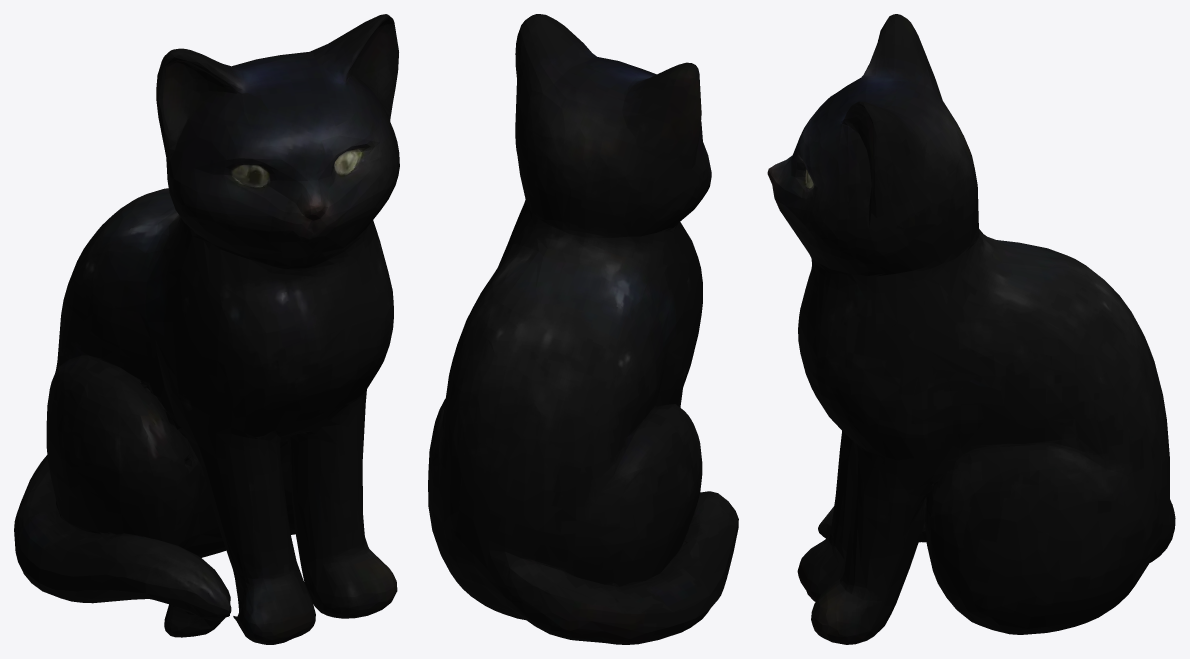
File: cat_black_sitting.glb
The picture shows the model from 3 angles, left to right: view 1: azimuth 30°, elevation 25°; view 2: azimuth 150°, elevation 25°; view 3: azimuth 270°, elevation 25°; orthographic projection. The views are drawn at different scales.
Parts seen in each view (by area): view 1: geometry_0; view 2: geometry_0; view 3: geometry_0.
Boxes of the visible parts, box(x1,y1,x2,y2) form: geometry_0: box(14, 14, 399, 644); geometry_0: box(428, 14, 738, 644); geometry_0: box(767, 14, 1175, 644).
Bounding box in the file's own units: 0.5415 × 0.9994 × 0.6711.
Materials: 1 (1 with a texture image).
